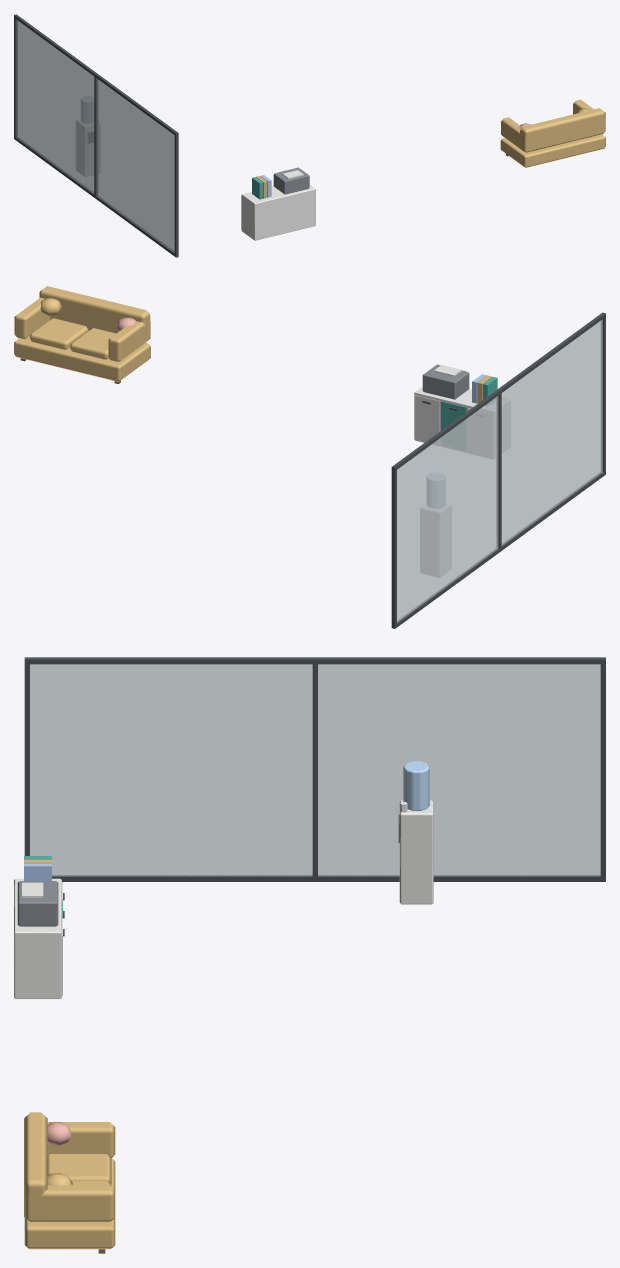
Rendered from einrichtung_buero_shops_buehne.glb.
3 views of the same model, one above another, from view 1: azimuth 30°, elevation 25°; view 2: azimuth 150°, elevation 25°; view 3: azimuth 270°, elevation 25° (orthographic). The views are drawn at different scales.
Parts seen in each view (by area): view 1: einrichtung_buero_shops_buehne; view 2: einrichtung_buero_shops_buehne; view 3: einrichtung_buero_shops_buehne.
Part boxes in pixels (x1,y1,x2,y2): einrichtung_buero_shops_buehne: (14, 14, 605, 257); einrichtung_buero_shops_buehne: (14, 286, 605, 628); einrichtung_buero_shops_buehne: (14, 657, 605, 1253).
Bounding box in the file's own units: 8.37 × 2.3 × 5.55.
